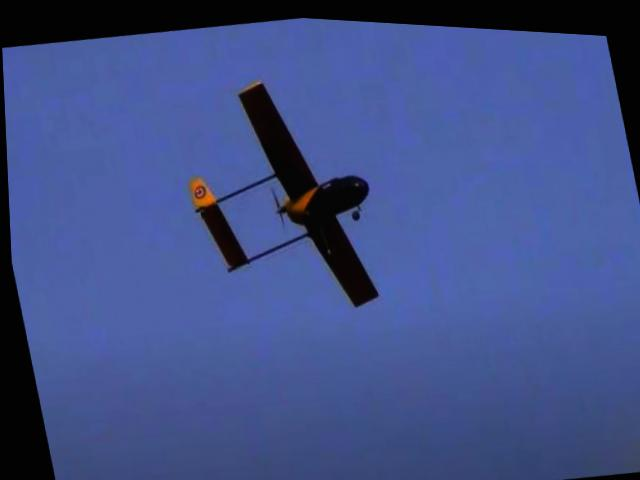iha: (160, 54, 393, 331)
